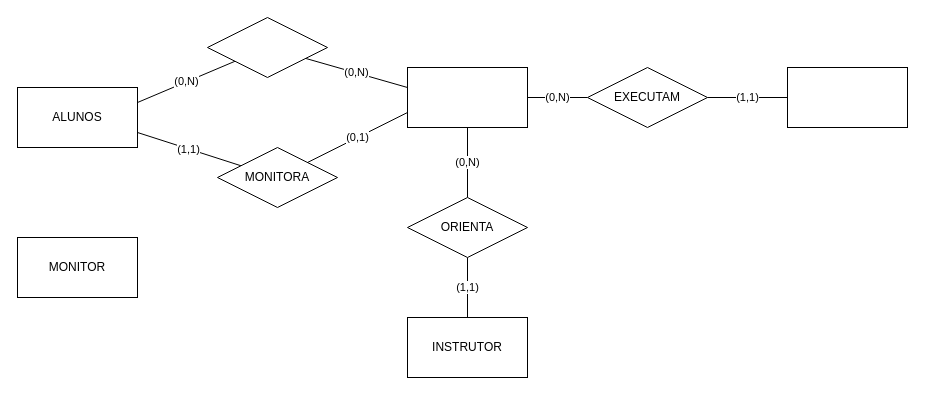
Some shapes in this 925 by 395 pixel diagram are drawn without their labels. Here are the shapes that lost their labels. From the top down, the centre of each, then its label:
At point 267,47: "MATRICULADOS".
At point 467,97: "TURMAS".
At point 847,97: "ATIVIDADES".
